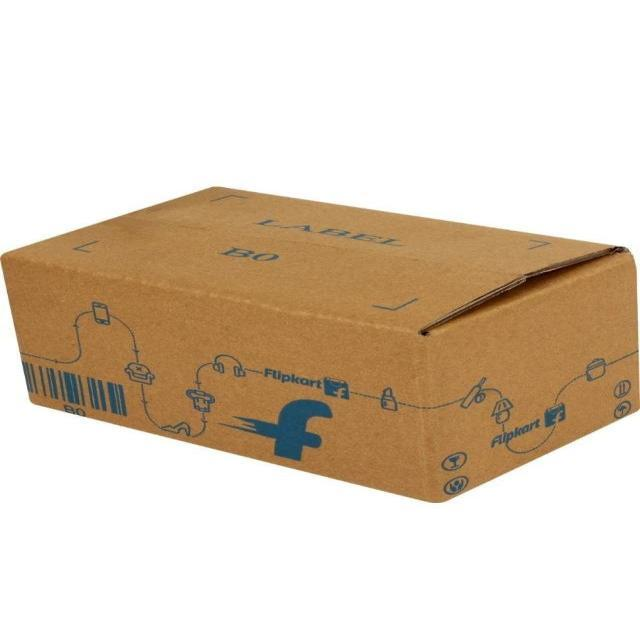cardboxes: (0, 187, 640, 506)
